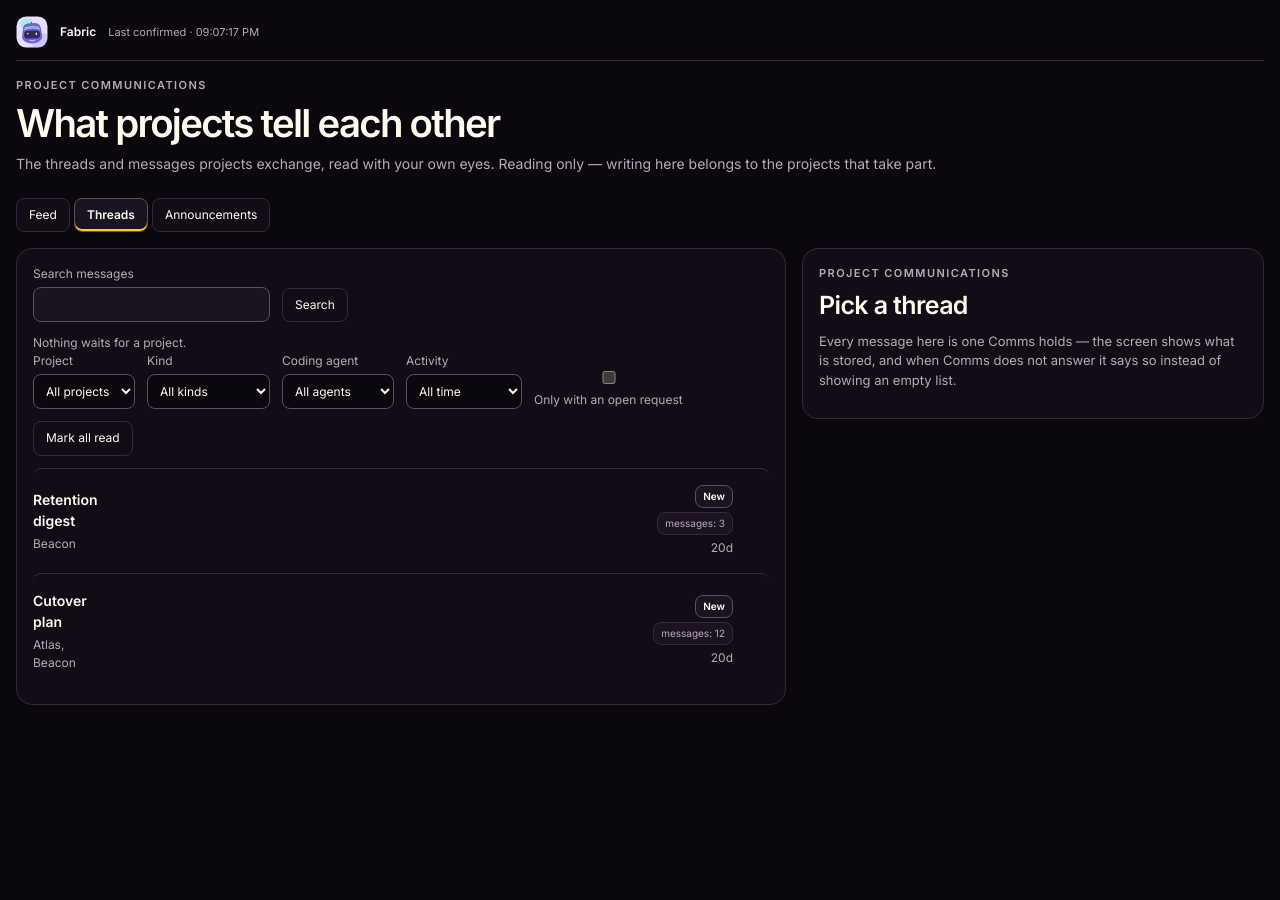
the filters are reads the board answers › by kind a thread HOLDS, and only threads with an open request
Check: the text "Cutover plan" is shown, box [33,590,57,632]
Select "request" in the dropdown labelled "Kind" at (208, 392), box [147,374,270,409]
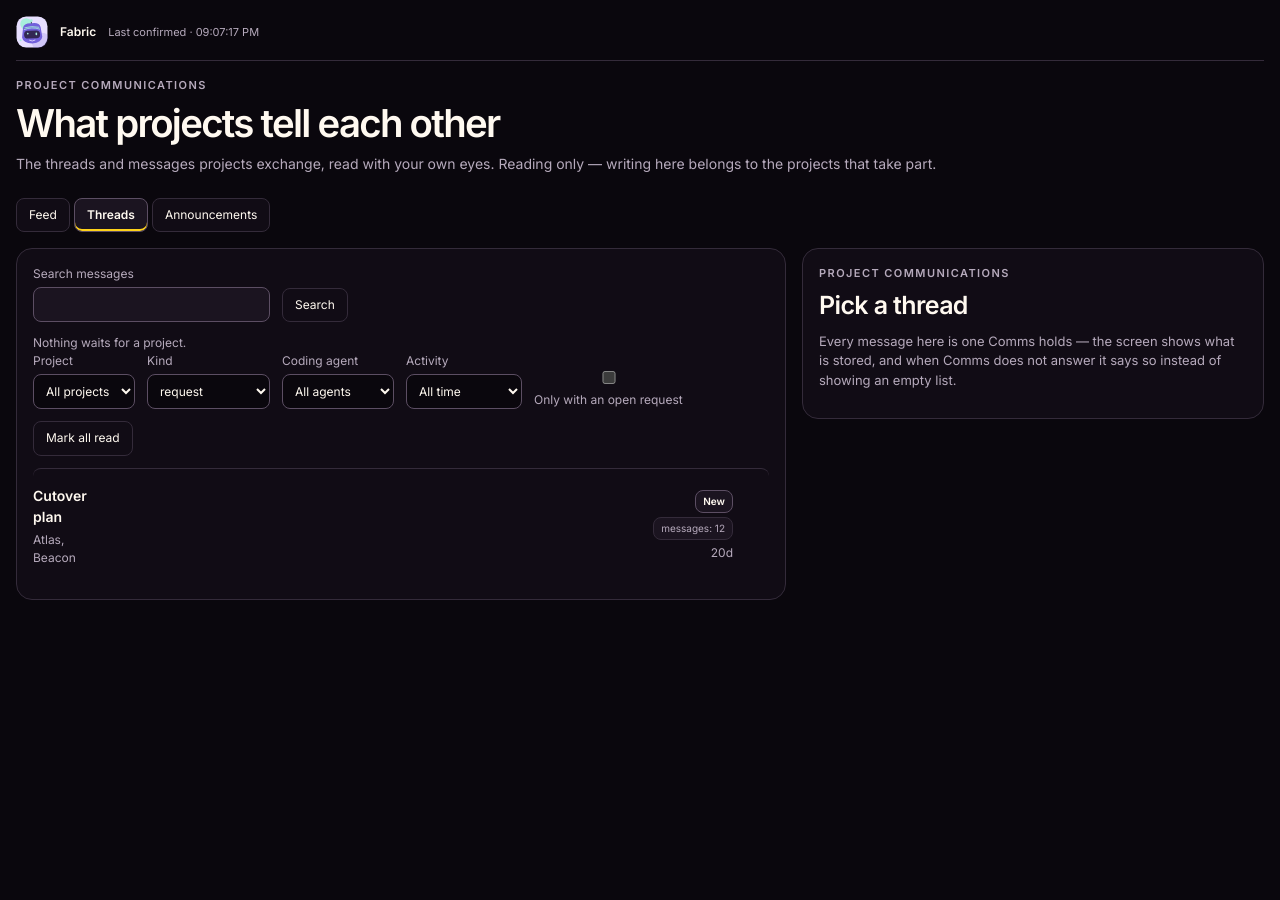
Check: the button "Retention digest" is gone
Select "All kinds" in the dropdown labelled "Kind" at (208, 392), box [147,374,270,409]
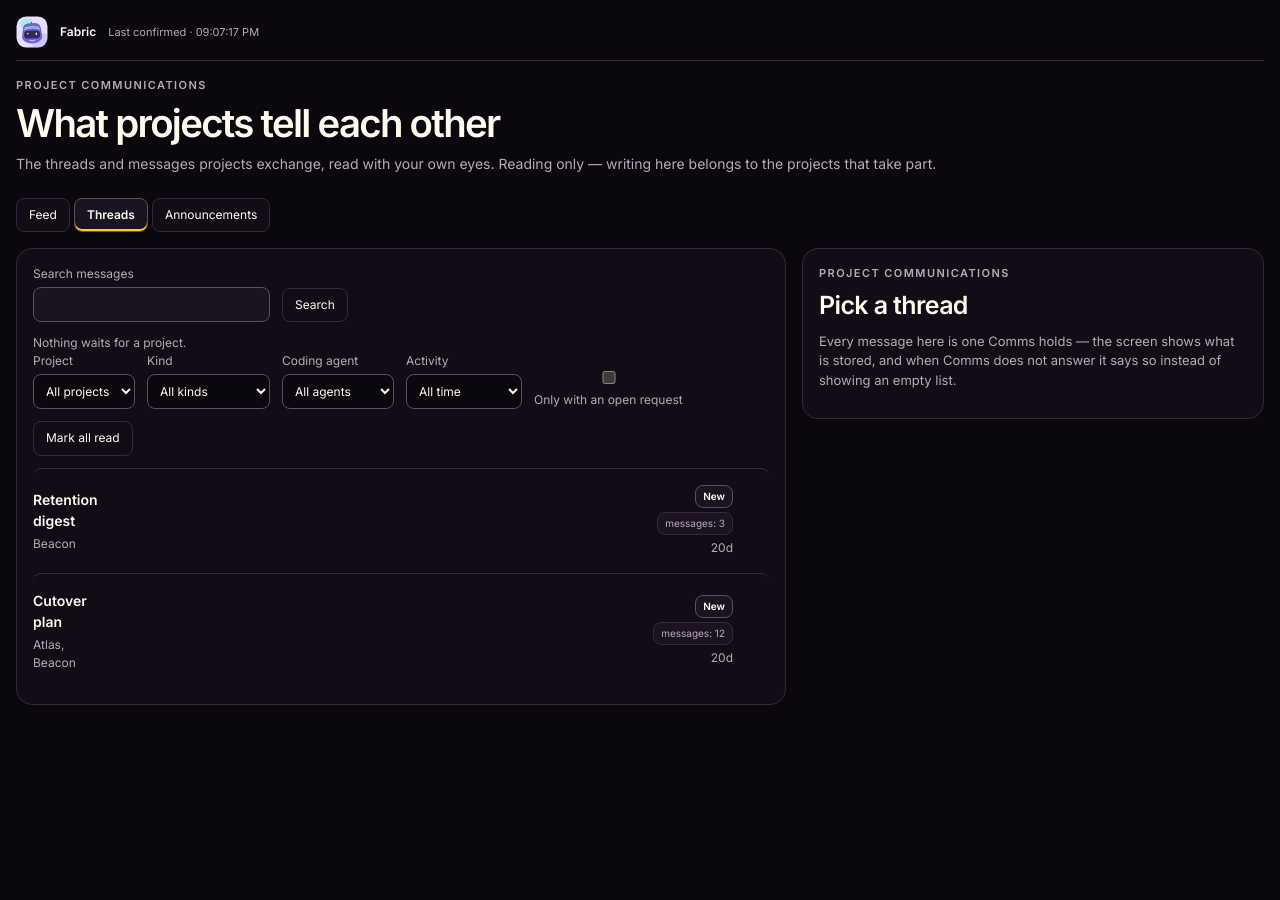
Check: the text "Retention digest" is shown, box [33,489,57,531]
Click the checkbox labelled "Only with an open request" at (609, 378), box [538,371,680,384]
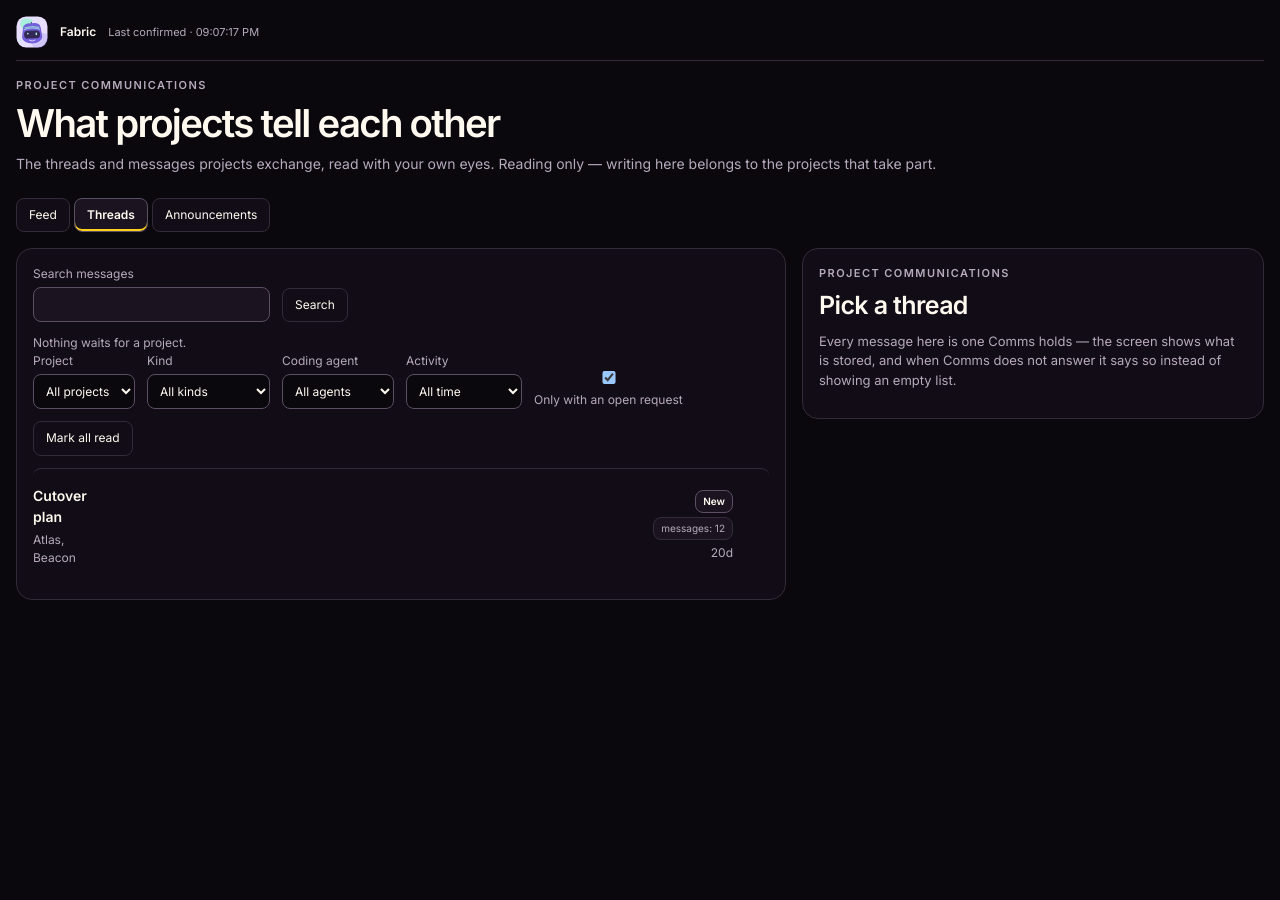
Check: the text "Cutover plan" is shown, box [33,485,57,527]
Check: the button "Retention digest" is gone
